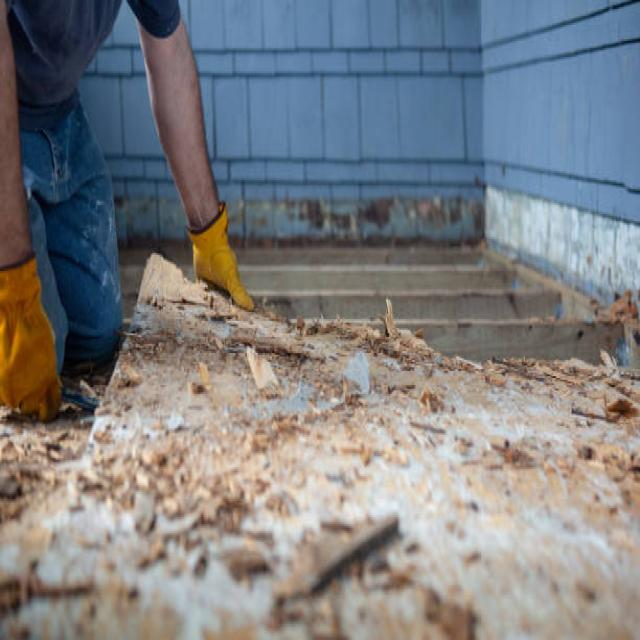gloves: (0, 246, 63, 417), (185, 202, 258, 316)
